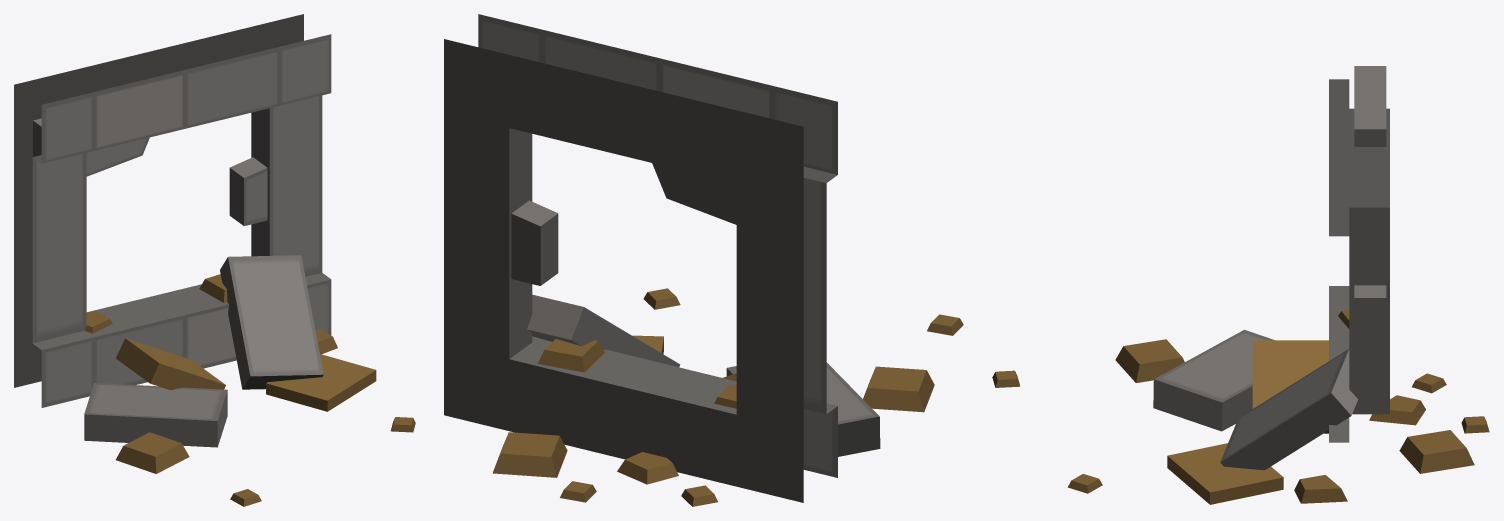
File: SD_Env_Goblin_Tunnel_Entrance_01.fbx
The picture shows the model from 3 angles, left to right: view 1: azimuth 30°, elevation 25°; view 2: azimuth 150°, elevation 25°; view 3: azimuth 270°, elevation 25°; orthographic projection. The views are drawn at different scales.
Visible parts, largest first — view 1: SD_Env_Goblin_Tunnel_Entrance_01; view 2: SD_Env_Goblin_Tunnel_Entrance_01; view 3: SD_Env_Goblin_Tunnel_Entrance_01.
Boxes of the visible parts, box(x1,y1,x2,y2) form: SD_Env_Goblin_Tunnel_Entrance_01: box(14, 14, 415, 506); SD_Env_Goblin_Tunnel_Entrance_01: box(444, 14, 963, 506); SD_Env_Goblin_Tunnel_Entrance_01: box(992, 66, 1489, 504).
Bounding box in the file's own units: 5 × 5.13 × 6.7.
